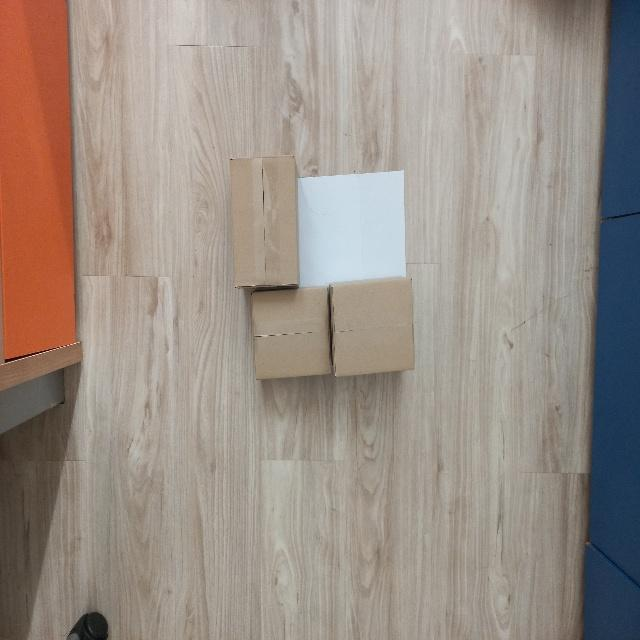box: (225, 156, 301, 288), (328, 276, 418, 378), (248, 286, 331, 382)
